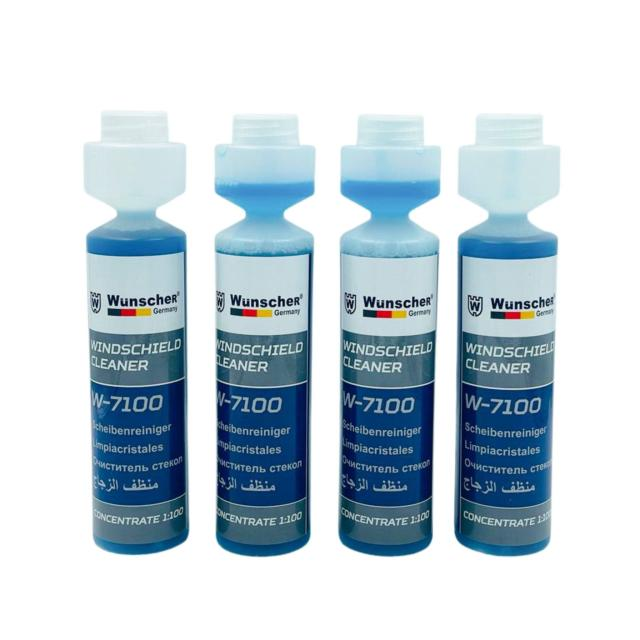winwinshield_washer: (80, 109, 196, 556), (211, 110, 316, 558), (454, 110, 558, 560), (336, 109, 437, 560)
